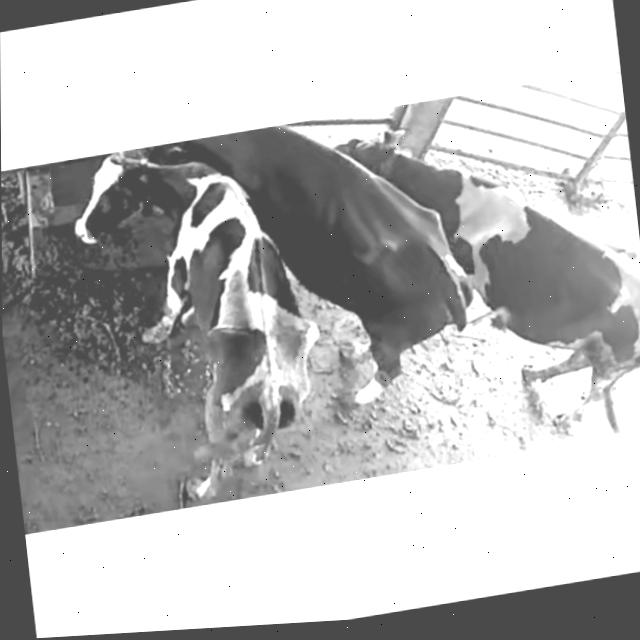drink: (147, 121, 298, 196)
